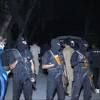gun: (73, 53, 94, 90), (53, 54, 69, 87)
